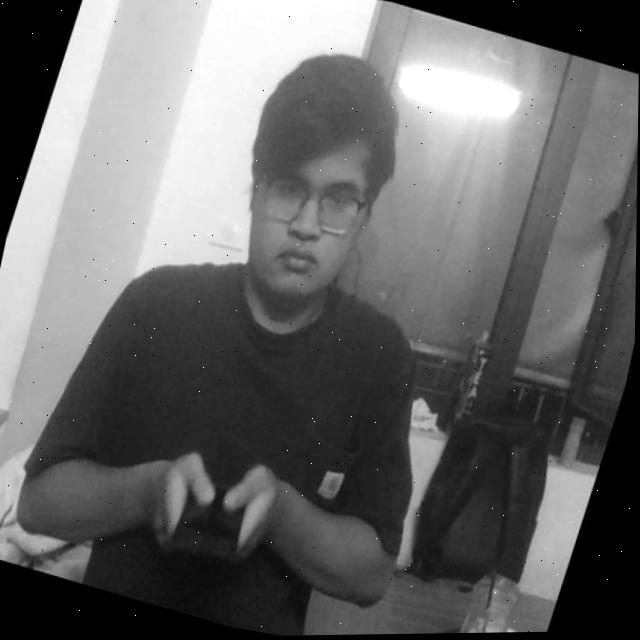phone: (153, 442, 273, 592)
